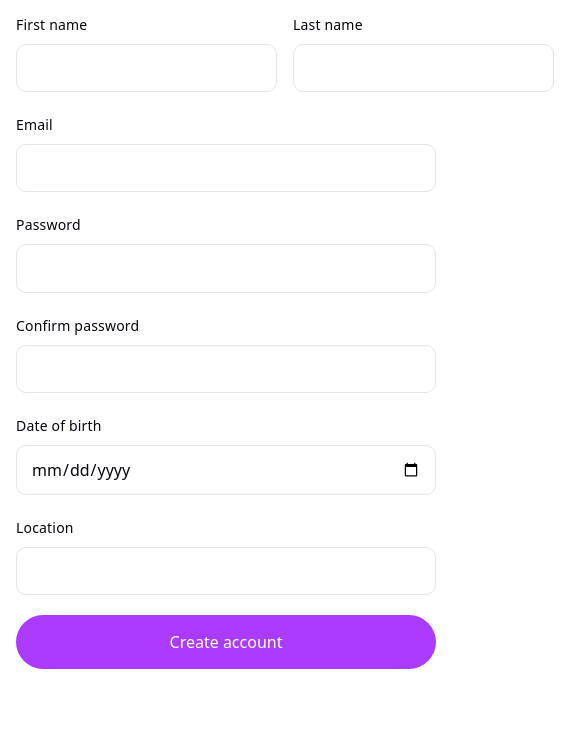
Test: RegisterForm › shows a duplicate-email error without navigating away
Type "Jane" into the field labelled "First name" at (146, 68), box [16,44,277,92]
Type "Doe" into the field labelled "Last name" at (424, 68), box [293,44,554,92]
Type "jane@example.com" into the field labelled "Email" at (226, 168), box [16,144,436,192]
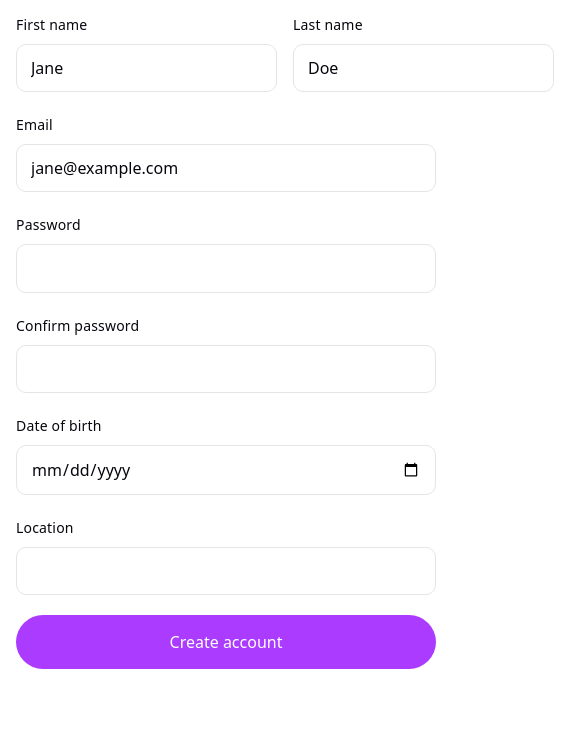
Type "Str0ngPass1" into the password field labelled "Password" at (226, 269), box [16,244,436,293]
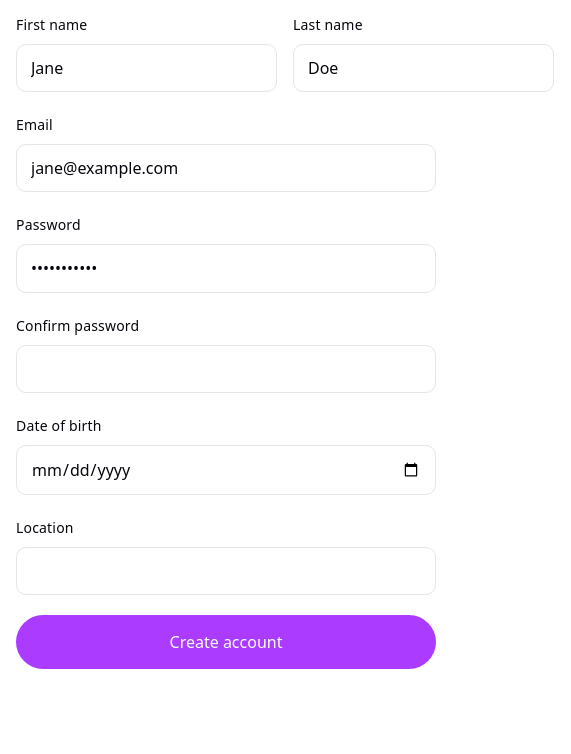
Type "Str0ngPass1" into the password field labelled "Confirm password" at (226, 369), box [16,345,436,393]
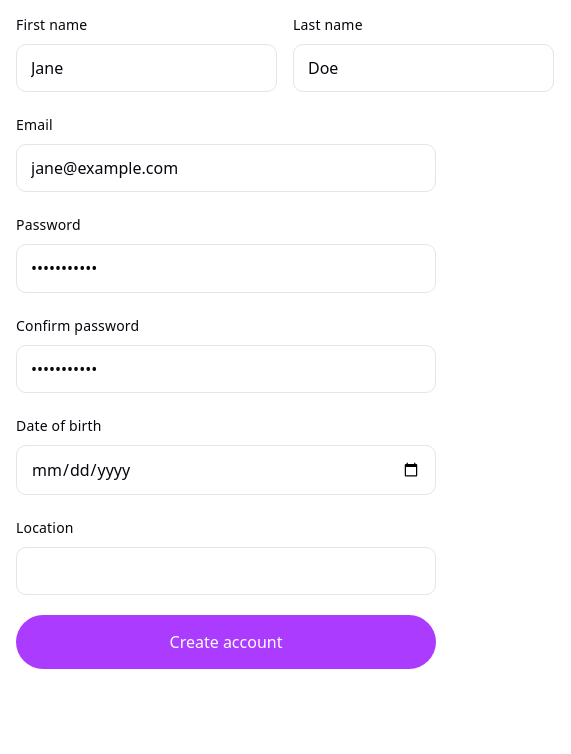
Type "1998-04-12" into the date field labelled "Date of birth" at (226, 470), box [16,445,436,495]
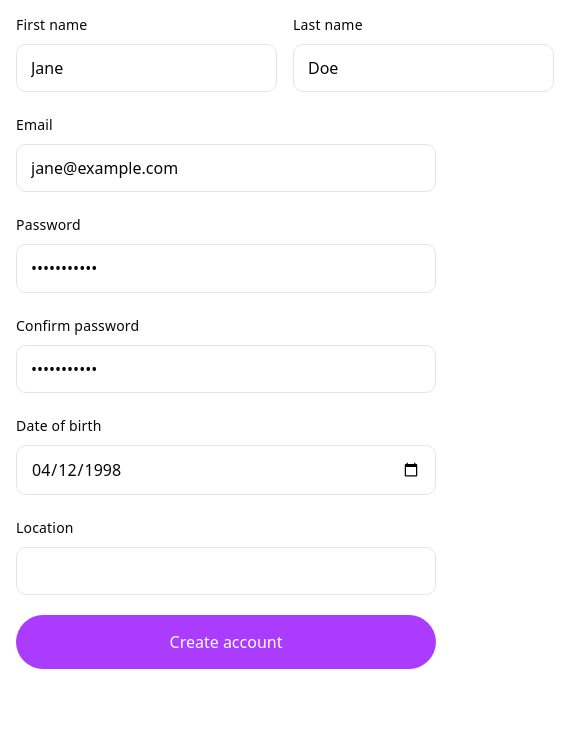
Type "Berlin" into the field labelled "Location" at (226, 571), box [16,547,436,595]
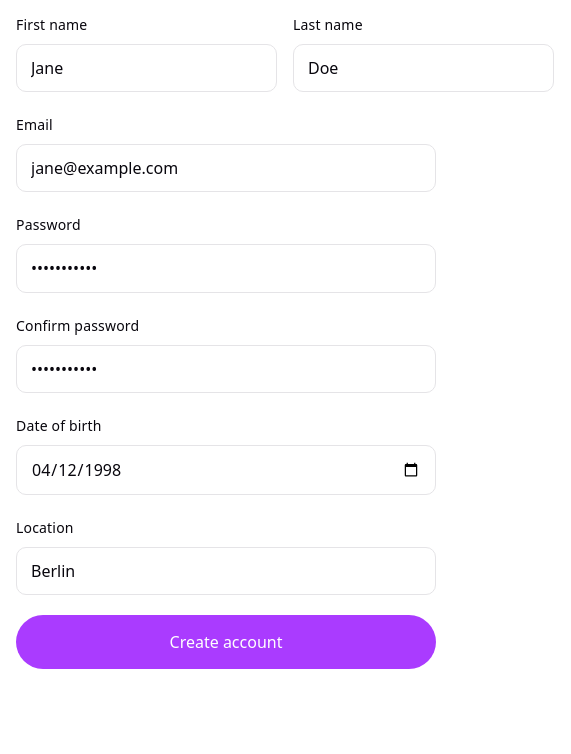
Click the button "Create account" at (226, 642), box [16,615,436,669]
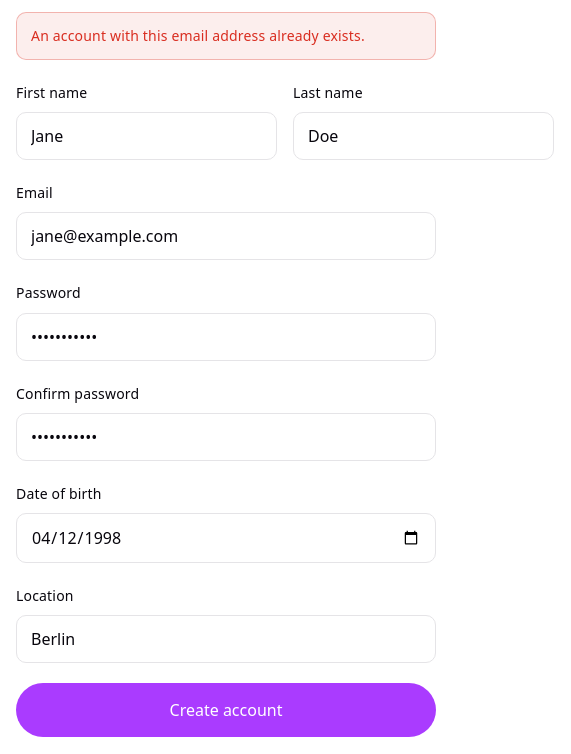
Result: the message shows "already exists" at [31,26,365,45]
